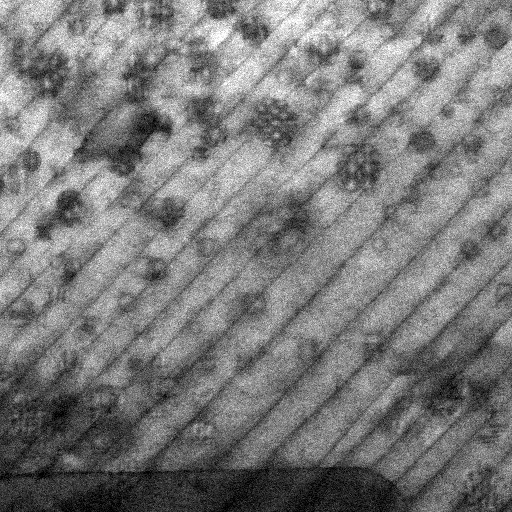y2o3: (233, 192, 326, 272), (419, 366, 478, 427), (241, 93, 302, 150), (94, 446, 159, 498), (18, 45, 75, 103), (447, 459, 508, 512), (330, 139, 385, 196), (373, 392, 427, 443), (136, 195, 188, 235), (389, 343, 443, 381), (7, 403, 54, 446), (228, 337, 275, 377), (132, 0, 177, 36), (469, 414, 511, 452), (178, 411, 222, 447), (230, 13, 273, 49), (53, 187, 88, 230), (381, 196, 420, 233), (183, 48, 223, 84), (296, 71, 338, 105), (302, 31, 340, 68), (294, 336, 328, 376), (104, 145, 145, 178), (233, 289, 272, 323), (161, 34, 206, 63), (110, 174, 145, 211), (51, 346, 86, 383), (69, 128, 104, 164), (6, 33, 32, 80), (183, 91, 216, 127), (378, 95, 415, 127), (81, 382, 119, 413), (145, 375, 184, 405), (199, 112, 228, 152), (118, 69, 150, 104), (53, 445, 93, 472), (134, 253, 170, 283), (71, 315, 103, 348), (409, 56, 444, 86), (360, 329, 388, 365), (7, 296, 36, 330), (306, 6, 345, 31), (403, 129, 438, 156), (141, 38, 167, 73), (197, 0, 240, 21), (185, 379, 215, 409), (0, 160, 23, 199), (3, 105, 26, 142), (342, 102, 372, 130), (467, 172, 494, 202), (484, 23, 510, 54), (43, 284, 75, 309), (457, 236, 484, 265), (88, 429, 117, 456), (412, 25, 447, 47), (188, 353, 218, 378), (458, 133, 486, 159), (114, 286, 139, 315), (7, 237, 28, 271), (176, 316, 207, 339), (34, 209, 55, 242), (488, 82, 511, 112), (482, 219, 509, 244), (450, 75, 474, 103), (193, 235, 222, 258), (338, 70, 371, 89), (19, 148, 43, 174), (278, 36, 302, 62), (46, 161, 66, 192), (60, 257, 81, 286), (10, 386, 36, 409), (66, 14, 92, 37), (62, 0, 95, 18), (141, 403, 169, 424), (368, 232, 391, 257), (124, 354, 147, 379), (132, 322, 157, 345), (98, 0, 131, 17), (471, 53, 498, 73), (493, 284, 512, 311), (0, 369, 17, 399), (273, 66, 295, 88), (378, 22, 400, 44), (346, 50, 369, 70), (188, 145, 211, 165), (49, 248, 69, 270), (454, 30, 477, 49), (152, 302, 173, 320), (428, 160, 445, 181), (438, 102, 457, 120), (125, 51, 141, 69), (469, 111, 484, 128), (449, 162, 463, 179)
